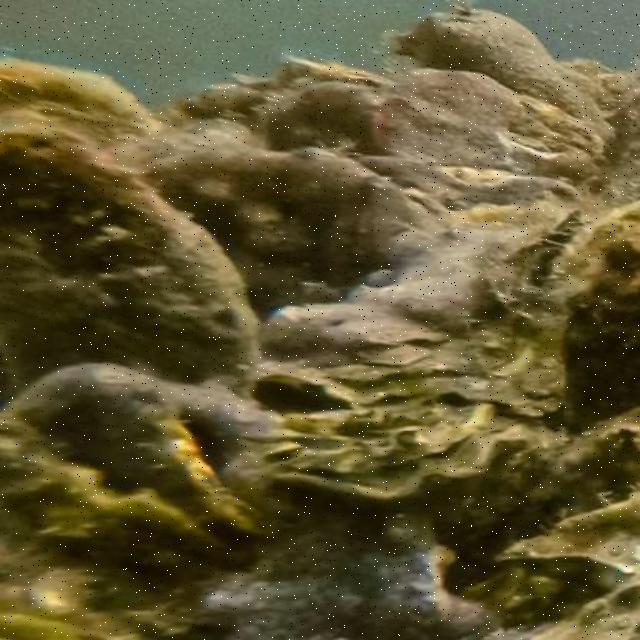Oyster-Closed: (0, 129, 261, 417), (138, 143, 435, 331), (398, 71, 613, 174), (563, 238, 640, 429), (0, 59, 149, 145)
Oyster-Open: (266, 400, 499, 489)
